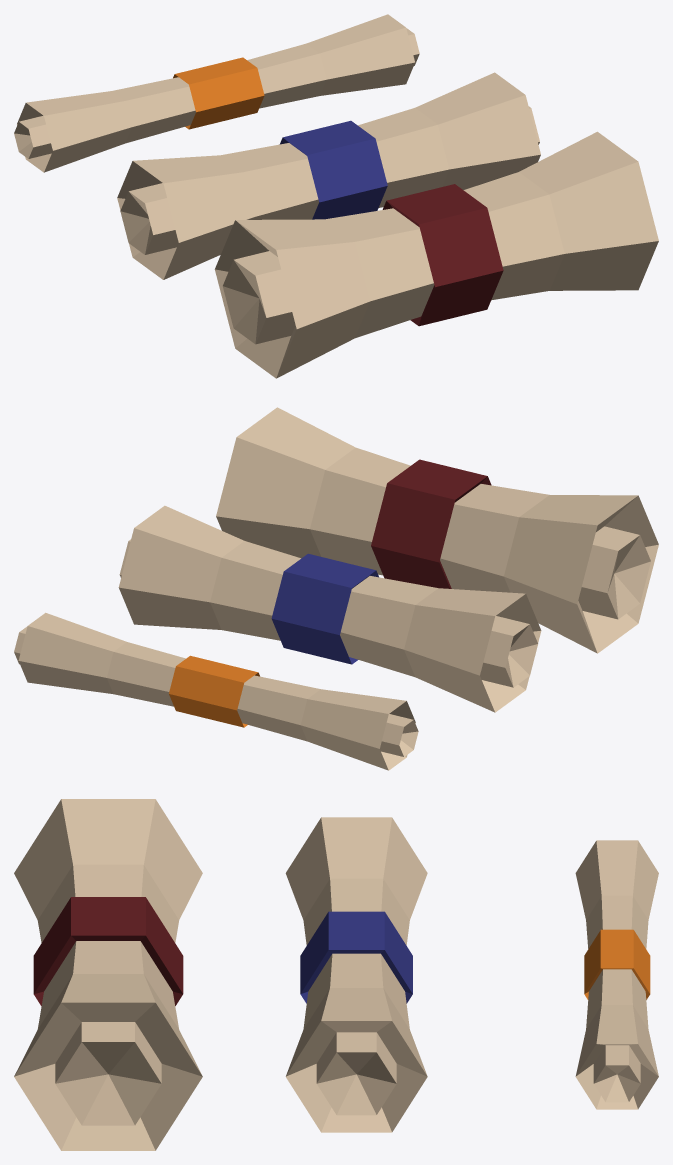
File: skrol.fbx
3 renders of one model, top to bottom at view 1: azimuth 30°, elevation 25°; view 2: azimuth 150°, elevation 25°; view 3: azimuth 270°, elevation 25°, orthographic. The views are drawn at different scales.
Parts seen in each view (by area): view 1: tolscrol, normolskrol, smolskrol; view 2: tolscrol, normolskrol, smolskrol; view 3: tolscrol, normolskrol, smolskrol.
Part boxes in pixels (x1,y1,x2,y2): tolscrol: (214,131,658,378); normolskrol: (117,72,540,279); smolskrol: (14,14,419,172); tolscrol: (216,407,658,653); normolskrol: (118,505,541,712); smolskrol: (14,612,418,770); tolscrol: (14,799,202,1150); normolskrol: (285,817,427,1132); smolskrol: (575,840,658,1109).
Size of the model in its own units: 262 by 83.46 by 329.
